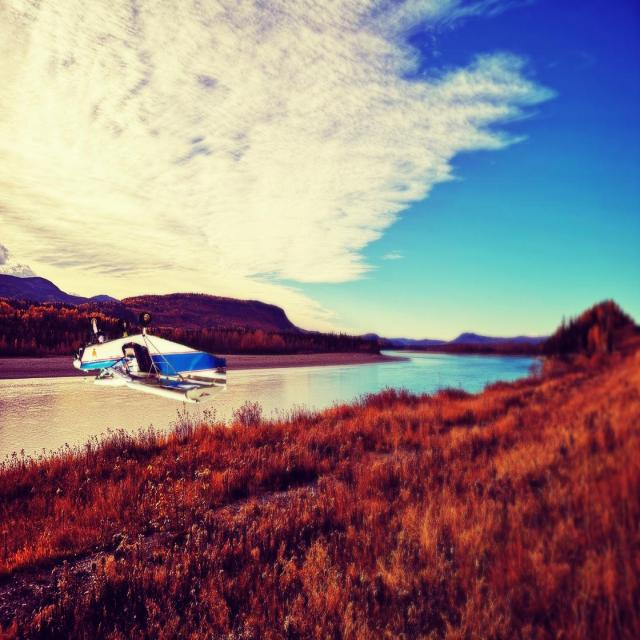airplane: (72, 312, 227, 404)
